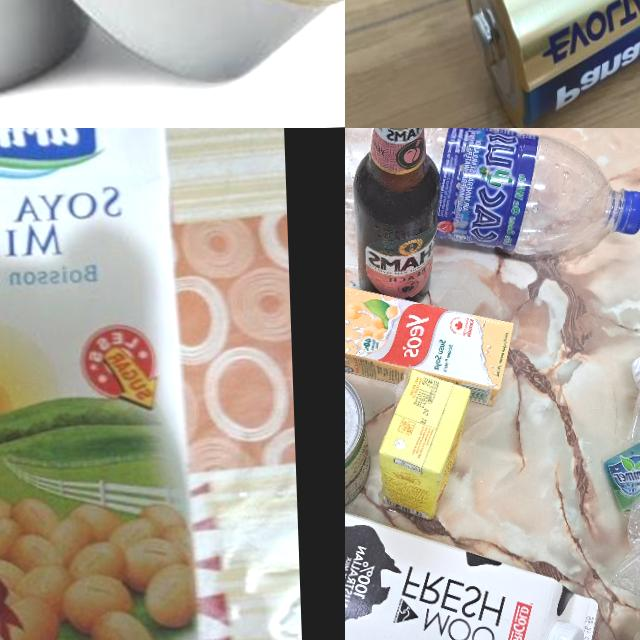bateria: (448, 0, 640, 128)
caixinha: (0, 128, 209, 640), (345, 471, 598, 640), (345, 281, 521, 386), (372, 371, 471, 522)
garrafa de vidro: (347, 128, 445, 298)
garrafa plástica: (345, 128, 602, 264), (608, 368, 640, 616)
lata: (0, 0, 345, 93), (0, 0, 90, 109)
tampa plástica: (614, 183, 640, 237), (545, 618, 586, 640), (631, 346, 640, 389)
